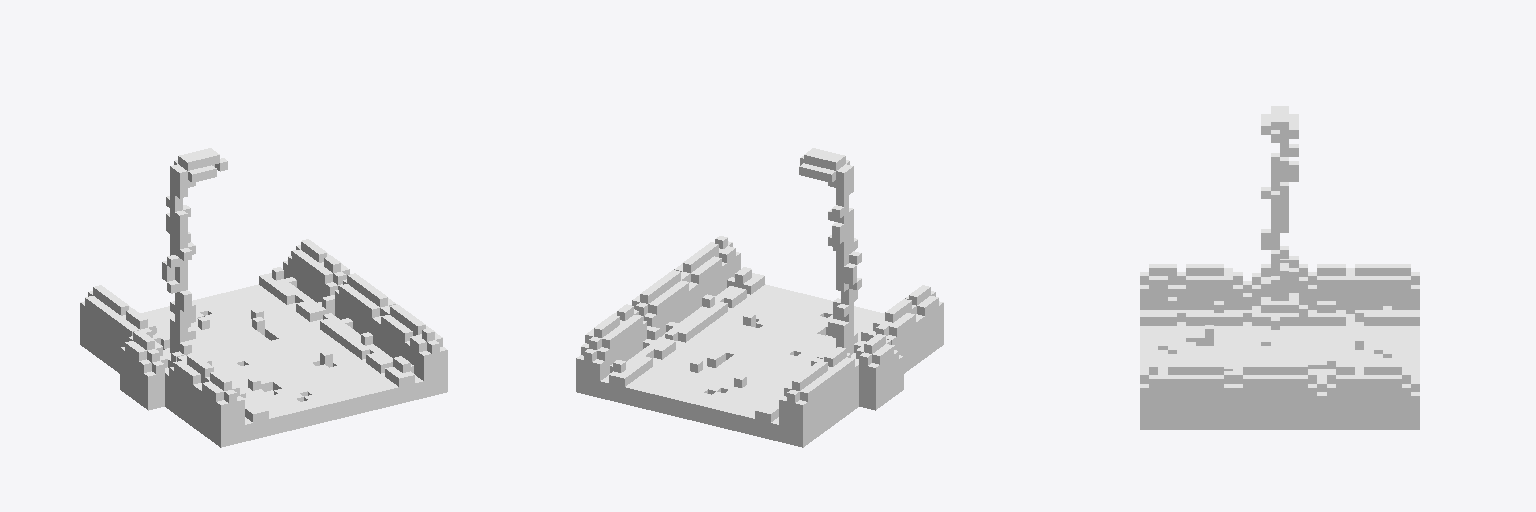
Rendered from chem3.obj.
The picture shows the model from 3 angles: view 1: azimuth 30°, elevation 25°; view 2: azimuth 150°, elevation 25°; view 3: azimuth 270°, elevation 25°; orthographic projection.
Parts seen in each view (by area): view 1: object 1; view 2: object 1; view 3: object 1.
Part boxes in pixels (x1,y1,x2,y2): object 1: (80, 148, 447, 447); object 1: (576, 148, 943, 447); object 1: (1140, 106, 1419, 429).
Size of the model in its own units: 3 by 2.7 by 3.